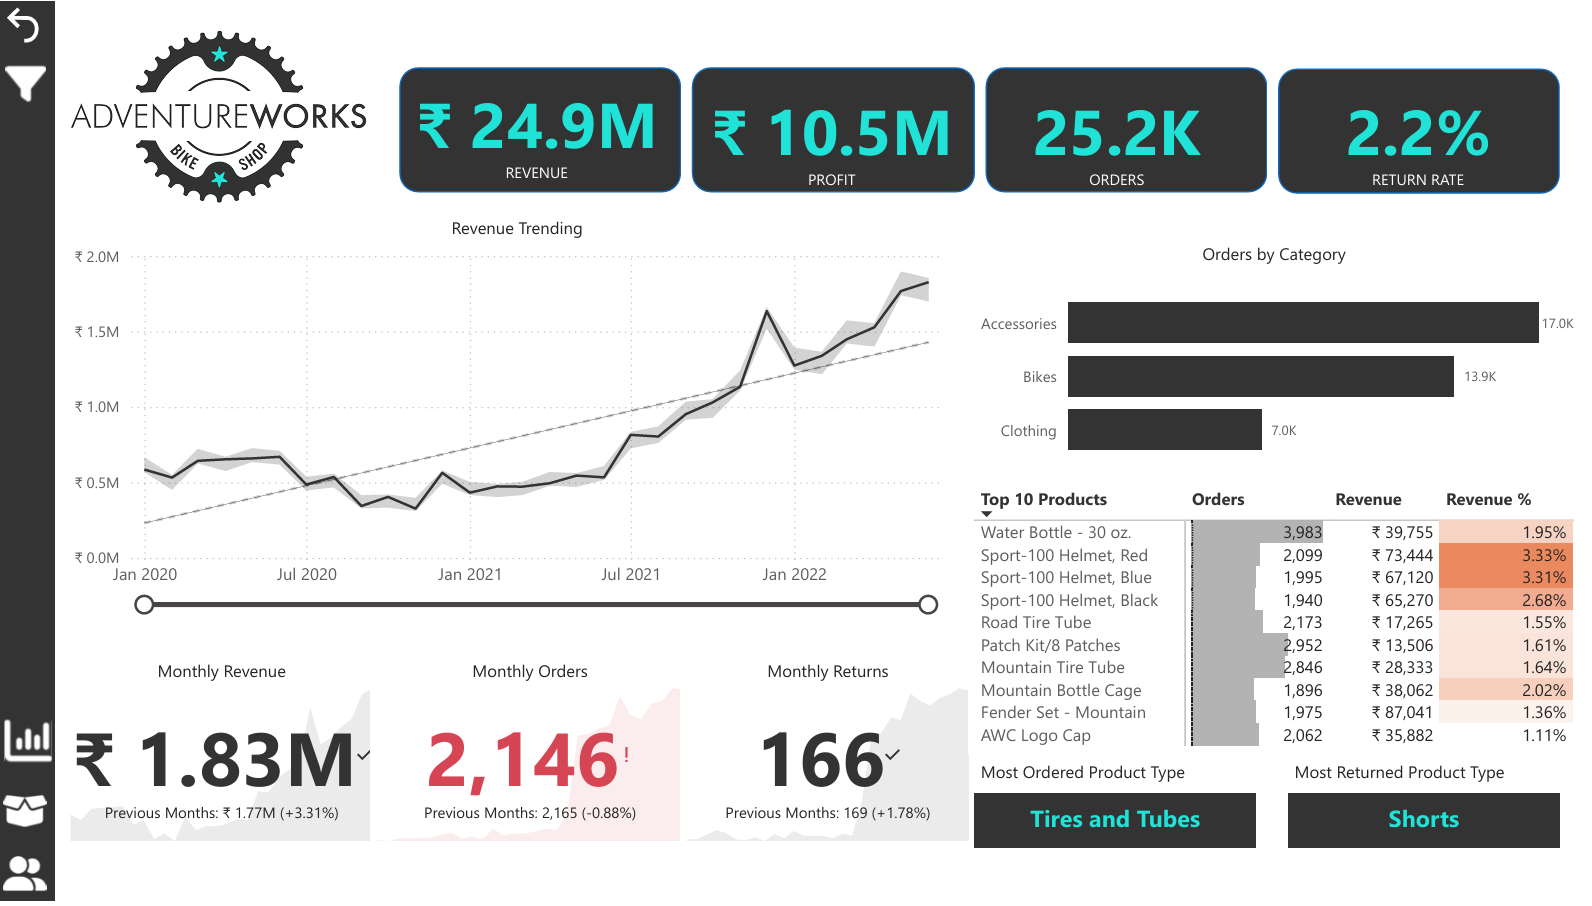

This screenshot's page, from the dashboard's own definition file:
{"tool":"powerbi","page":{"name":"Exec Dashboard","canvas":[1280,720],"ordinal":0},"visuals":[{"type":"image","title":"AW Logo","box":[27.5,15,300,155],"z":0},{"type":"shape","box":[321.8,52.8,225.1,99.9],"z":0,"group":"g1"},{"type":"actionButton","box":[2.1,564.1,46,56.3],"z":0,"group":"g2"},{"type":"shape","title":"Left nav background","box":[0,0,46,720.2],"z":1000},{"type":"shape","box":[555.7,52.8,226.3,99.9],"z":1000,"group":"g1"},{"type":"group","id":"g1","title":"KPI background","box":[302.5,7.1,947.4,195],"z":2000},{"type":"shape","box":[790.8,52.8,225.1,99.9],"z":2000,"group":"g1"},{"type":"actionButton","box":[1,627.3,46,42.5],"z":2000,"group":"g2"},{"type":"card","fields":{"Values":["Measure Table.Total Revenue"]},"box":[302.5,7.1,257.5,195],"z":3000,"group":"g1"},{"type":"card","fields":{"Values":["Measure Table.Total Orders"]},"box":[767,12,257.7,195.4],"z":3000},{"type":"actionButton","box":[1.1,677.6,46,42.5],"z":3000,"group":"g2"},{"type":"card","fields":{"Values":["Measure Table.Total profit"]},"box":[539.3,12,257.7,195.4],"z":4000},{"type":"shape","box":[1024.8,54,225.1,99.9],"z":4000,"group":"g1"},{"type":"card","fields":{"Values":["Measure Table.Return Rate"]},"box":[1007.9,12,257.7,195.4],"z":5000},{"type":"lineChart","title":"Revenue Trending","fields":{"Y":["Measure Table.Total Revenue"],"Category":["Calendar Lookup.Date Hierarchy.Start of Month"]},"box":[56.3,172.3,720.2,321.6],"z":6000},{"type":"kpi","title":"Monthly Revenue","fields":{"Indicator":["Measure Table.Total Revenue"],"TrendLine":["Calendar Lookup.Start of Month"],"Goal":["Measure Table.Previous month revenue"]},"box":[54,527.2,251.6,150.5],"z":7000},{"type":"kpi","title":"Monthly Orders","fields":{"TrendLine":["Calendar Lookup.Start of Month"],"Indicator":["Measure Table.Total Orders"],"Goal":["Measure Table.Previous month orders"]},"box":[298.7,527.2,255,150.5],"z":8000},{"type":"kpi","title":"Monthly Returns","fields":{"TrendLine":["Calendar Lookup.Start of Month"],"Indicator":["Measure Table.Total Returns"],"Goal":["Measure Table.Previous month returns"]},"box":[546.8,527.2,235.5,150.5],"z":9000},{"type":"barChart","title":"Orders by Category","fields":{"Category":["Product Categories Lookup.CategoryName"],"Y":["Measure Table.Total Orders"]},"box":[776.5,193,489.4,190.7],"z":10000},{"type":"pivotTable","fields":{"Rows":["Product Lookup.ProductName"],"Values":["Measure Table.Total Orders","Measure Table.Total Revenue","Measure Table.Return Rate"]},"box":[776.5,383.7,489.4,219.4],"z":11000},{"type":"card","fields":{"Values":["Min(Product Subcategories Lookup.SubcategoryName)"]},"box":[782.3,634.1,225.1,43.6],"z":12000},{"type":"textbox","box":[782.3,603.1,180.3,31],"z":13000},{"type":"card","fields":{"Values":["Min(Product Subcategories Lookup.SubcategoryName)"]},"box":[1032.7,634.1,217.1,43.6],"z":14000},{"type":"textbox","box":[1032.8,603.1,180.3,31],"z":15000},{"type":"actionButton","box":[2.3,0,46,37.9],"z":16000},{"type":"group","id":"g2","title":"Navigation buttons","box":[1,564.1,47.1,156],"z":17000},{"type":"actionButton","box":[3.5,46,42.5,40.2],"z":18000}]}

Visuals, with their boxes on the page's 1280x720 design canvas (x1, y1, x2, y2). These are canvas units, not pixel positions in the 1592x906 screenshot, which may show the page scaled, cropped or inside an application window:
"AW Logo" image: [28, 15, 328, 170]
shape: [322, 53, 547, 153]
actionButton: [2, 564, 48, 620]
"Left nav background" shape: [0, 0, 46, 720]
shape: [556, 53, 782, 153]
"KPI background" group: [302, 7, 1250, 202]
shape: [791, 53, 1016, 153]
actionButton: [1, 627, 47, 670]
card - Measure Table.Total Revenue: [302, 7, 560, 202]
card - Measure Table.Total Orders: [767, 12, 1025, 207]
actionButton: [1, 678, 47, 720]
card - Measure Table.Total profit: [539, 12, 797, 207]
shape: [1025, 54, 1250, 154]
card - Measure Table.Return Rate: [1008, 12, 1266, 207]
"Revenue Trending" lineChart: [56, 172, 776, 494]
"Monthly Revenue" kpi: [54, 527, 306, 678]
"Monthly Orders" kpi: [299, 527, 554, 678]
"Monthly Returns" kpi: [547, 527, 782, 678]
"Orders by Category" barChart: [776, 193, 1266, 384]
pivotTable - Product Lookup.ProductName x Measure Table.Total Orders: [776, 384, 1266, 603]
card - Min(Product Subcategories Lookup.SubcategoryName): [782, 634, 1007, 678]
textbox: [782, 603, 963, 634]
card - Min(Product Subcategories Lookup.SubcategoryName): [1033, 634, 1250, 678]
textbox: [1033, 603, 1213, 634]
actionButton: [2, 0, 48, 38]
"Navigation buttons" group: [1, 564, 48, 720]
actionButton: [4, 46, 46, 86]
